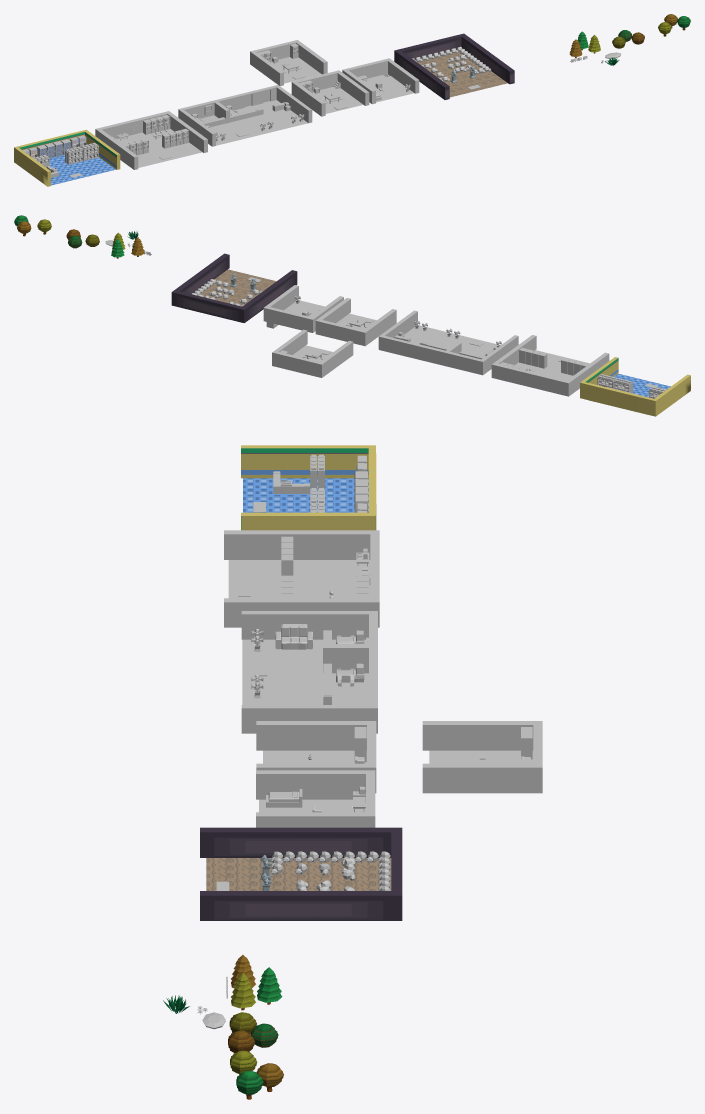
File: TUDOJUNTO_CENARIOS_E_AFINS.fbx
3 views of the same model, one above another, from view 1: azimuth 30°, elevation 25°; view 2: azimuth 150°, elevation 25°; view 3: azimuth 270°, elevation 25° (orthographic). The views are drawn at different scales.
Parts seen in each view (by area): view 1: StoneGym.001, Pokecenter, chao pokecenter, LABOAK.001, Pokemart.002, StoneGymFloor, andar 1 Red, andar 1 Red.001, andar 2 red, LABOAKFloor.001, Chao pokemart.001, chao andar 1 casa red (+4 smaller); view 2: StoneGym.001, Pokecenter, Pokemart.002, LABOAK.001, andar 1 Red.001, andar 1 Red, andar 2 red, chao pokecenter, StoneGymFloor, LABOAKFloor.001, Chao pokemart.001, chao andar 2; view 3: StoneGym.001, Pokecenter, andar 1 Red.001, LABOAK.001, Pokemart.002, chao pokecenter, andar 2 red, LABOAKFloor.001, andar 1 Red, StoneGymFloor, Chao pokemart.001, chao andar 1 casa red.001 (+2 smaller).
Boxes of the visible parts, <box> form: StoneGym.001: <box>394,33,514,99</box>; Pokecenter: <box>178,85,312,146</box>; chao pokecenter: <box>201,100,307,145</box>; LABOAK.001: <box>95,111,207,169</box>; Pokemart.002: <box>14,129,120,186</box>; StoneGymFloor: <box>417,52,507,97</box>; andar 1 Red: <box>291,70,369,116</box>; andar 1 Red.001: <box>250,40,327,86</box>; andar 2 red: <box>342,58,419,104</box>; LABOAKFloor.001: <box>115,129,202,167</box>; Chao pokemart.001: <box>49,154,115,185</box>; chao andar 1 casa red: <box>313,87,363,113</box>; StoneGym.001: <box>171,253,297,322</box>; Pokecenter: <box>378,310,518,375</box>; Pokemart.002: <box>580,357,690,416</box>; LABOAK.001: <box>491,335,609,396</box>; andar 1 Red.001: <box>272,329,353,377</box>; andar 1 Red: <box>315,298,396,346</box>; andar 2 red: <box>263,285,343,332</box>; chao pokecenter: <box>404,325,500,356</box>; StoneGymFloor: <box>200,269,276,305</box>; LABOAKFloor.001: <box>515,350,589,380</box>; Chao pokemart.001: <box>614,373,670,397</box>; chao andar 2: <box>284,300,324,316</box>; StoneGym.001: <box>200,827,402,920</box>; Pokecenter: <box>241,611,377,733</box>; andar 1 Red.001: <box>422,721,542,793</box>; LABOAK.001: <box>224,530,379,627</box>; Pokemart.002: <box>241,445,376,530</box>; chao pokecenter: <box>242,639,368,704</box>; andar 2 red: <box>256,770,375,827</box>; LABOAKFloor.001: <box>228,560,370,598</box>; andar 1 Red: <box>256,721,376,793</box>; StoneGymFloor: <box>206,858,391,890</box>; Chao pokemart.001: <box>243,478,368,512</box>; chao andar 1 casa red.001: <box>429,750,533,763</box>.
Bounding box in the file's own units: 19965 × 712 × 5098.
